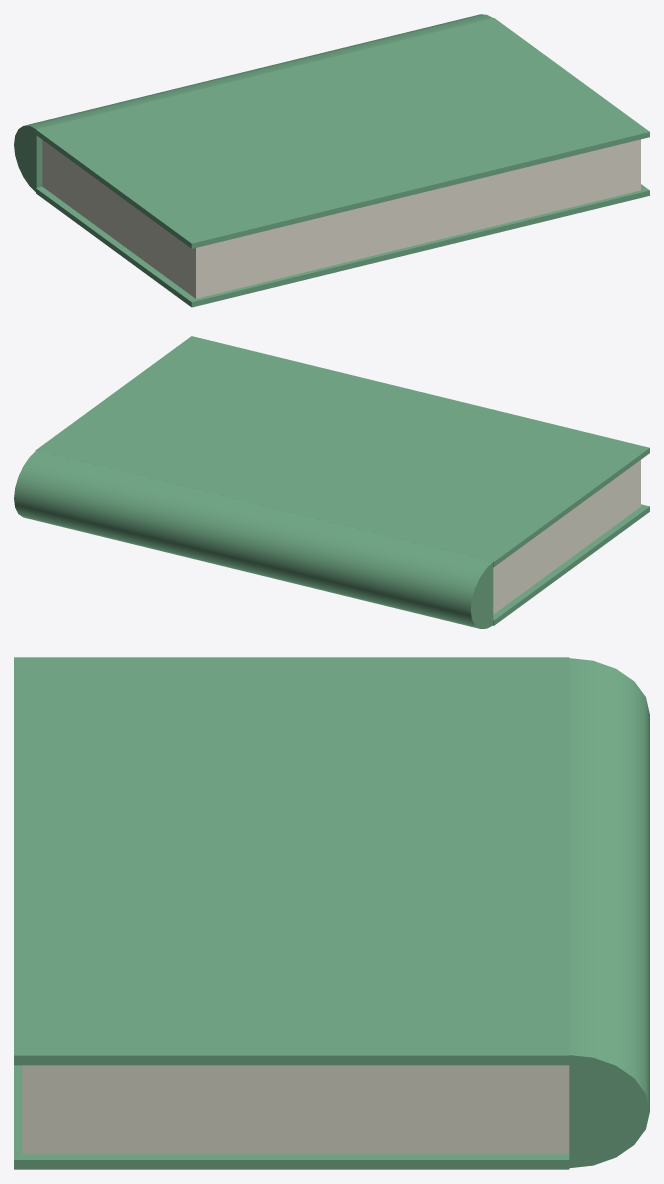
Rendered from book4.fbx.
The picture shows the model from 3 angles, top to bottom: view 1: azimuth 30°, elevation 25°; view 2: azimuth 150°, elevation 25°; view 3: azimuth 270°, elevation 25°; orthographic projection. The views are drawn at different scales.
Parts seen in each view (by area): view 1: pCylinder12; view 2: pCylinder12; view 3: pCylinder12.
Part boxes in pixels (x1,y1,x2,y2): pCylinder12: (14, 14, 649, 307); pCylinder12: (14, 336, 649, 628); pCylinder12: (14, 657, 649, 1169).
Bounding box in the file's own units: 5.57 × 0.7429 × 3.76.
